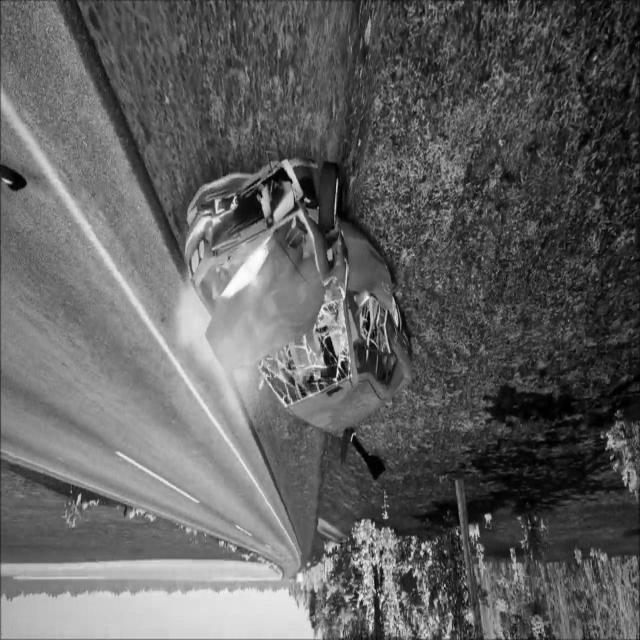severe: (179, 154, 417, 440)
